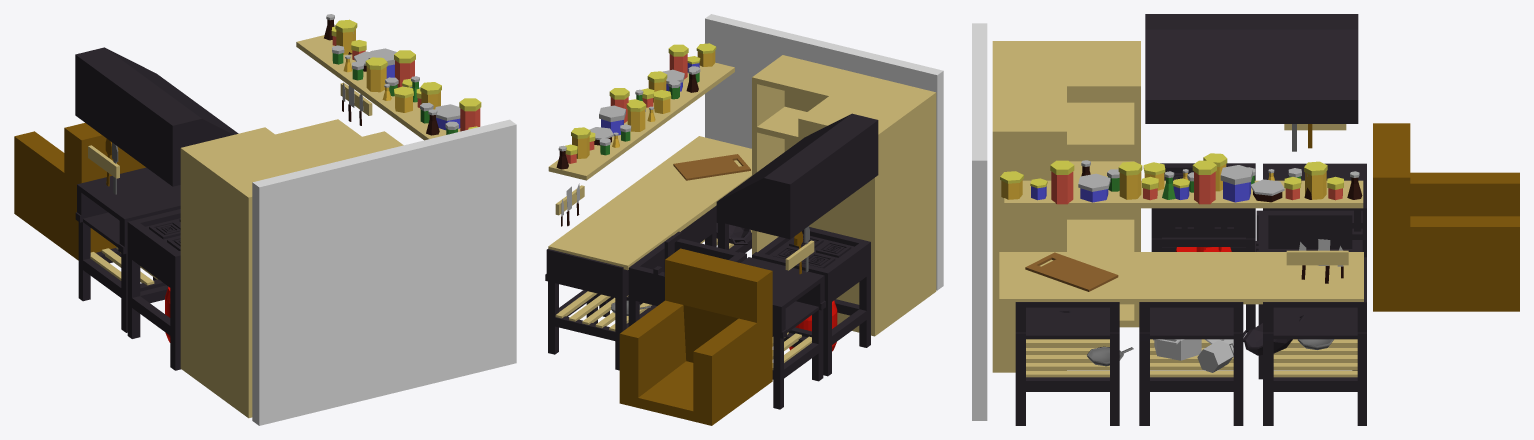
The model's file is Chair.fbx.
The picture shows the model from 3 angles, left to right: view 1: azimuth 30°, elevation 25°; view 2: azimuth 150°, elevation 25°; view 3: azimuth 270°, elevation 25°; orthographic projection. The views are drawn at different scales.
Parts seen in each view (by area): view 1: BackWall, Cabinet, Fume Hood, Chairs, CounterDrawer.001, ShelfJars, 4BurnerStove, Shelf, Counter, Storage Slats.001, Utensil Rack; view 2: Cabinet, Chairs, BackWall, Fume Hood, Counter, CounterDrawer.002, 4BurnerStove, ShelfJars, CounterDrawer.001, Shelf, Sink, Storage Slats (+4 smaller); view 3: Cabinet, Fume Hood, Chairs, CounterDrawer.002, Counter, ShelfJars, Storage Slats, BackWall, 4BurnerStove, Sink, Shelf, Pot.001 (+3 smaller).
Part boxes in pixels (left/top/right/bottom): BackWall: left=252, top=119, right=516, bottom=425; Cabinet: left=180, top=127, right=403, bottom=418; Fume Hood: left=75, top=47, right=238, bottom=186; Chairs: left=14, top=123, right=145, bottom=260; CounterDrawer.001: left=75, top=167, right=180, bottom=332; ShelfJars: left=324, top=14, right=481, bottom=135; 4BurnerStove: left=127, top=209, right=180, bottom=370; Shelf: left=296, top=35, right=460, bottom=140; Counter: left=275, top=119, right=361, bottom=151; Storage Slats.001: left=90, top=247, right=160, bottom=285; Utensil Rack: left=88, top=145, right=119, bottom=178; Cabinet: left=752, top=55, right=936, bottom=336; Chairs: left=619, top=248, right=772, bottom=425; BackWall: left=705, top=14, right=943, bottom=290; Fume Hood: left=716, top=113, right=878, bottom=239; Counter: left=548, top=136, right=751, bottom=270; CounterDrawer.002: left=545, top=205, right=751, bottom=370; 4BurnerStove: left=752, top=227, right=870, bottom=376; ShelfJars: left=556, top=43, right=716, bottom=169; CounterDrawer.001: left=741, top=257, right=825, bottom=409; Shelf: left=548, top=62, right=734, bottom=180; Sink: left=628, top=231, right=746, bottom=326; Storage Slats: left=555, top=230, right=751, bottom=331; Cabinet: left=992, top=41, right=1140, bottom=372; Fume Hood: left=1145, top=14, right=1358, bottom=123; Chairs: left=1373, top=123, right=1519, bottom=311; CounterDrawer.002: left=1015, top=257, right=1366, bottom=425; Counter: left=999, top=252, right=1363, bottom=304; ShelfJars: left=1000, top=153, right=1362, bottom=204; Storage Slats: left=1026, top=339, right=1357, bottom=377; BackWall: left=972, top=23, right=987, bottom=420; 4BurnerStove: left=1151, top=163, right=1255, bottom=330; Sink: left=1255, top=208, right=1362, bottom=379; Shelf: left=1004, top=180, right=1363, bottom=208; Pot.001: left=1059, top=311, right=1333, bottom=372.
Bounding box in the file's own units: 460 × 408 × 746.
